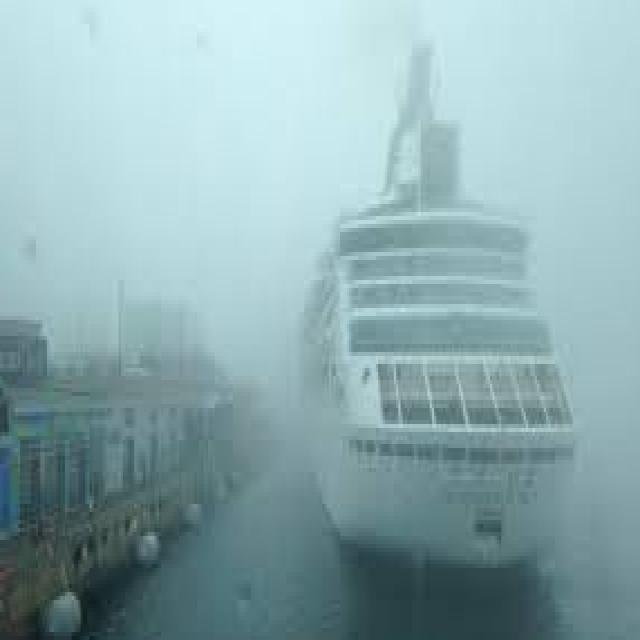passenger ship: (290, 116, 578, 572)
